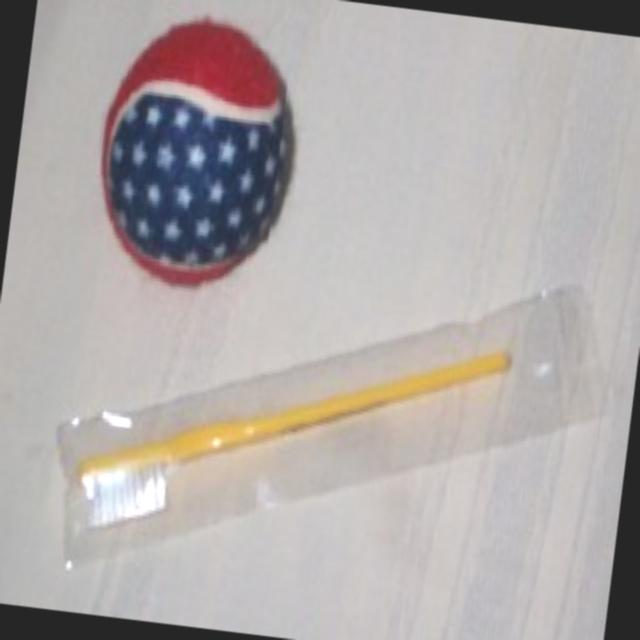Tennis Ball: (98, 20, 297, 288)
